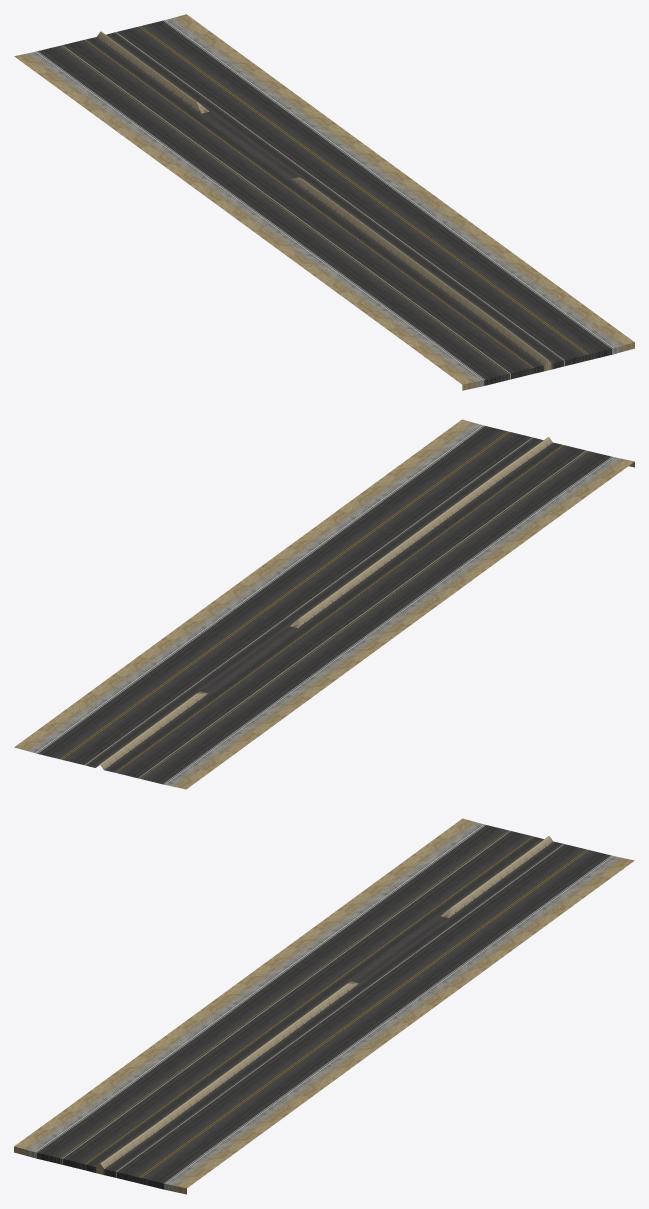
The model's file is vegaseroad072.obj.
3 views of the same model, one above another, from view 1: azimuth 30°, elevation 25°; view 2: azimuth 150°, elevation 25°; view 3: azimuth 330°, elevation 25° (orthographic).
Visible parts, largest first — view 1: VegasEroad072; view 2: VegasEroad072; view 3: VegasEroad072.
Part boxes in pixels (x1=…): VegasEroad072: x1=14, y1=14, x2=634, y2=390; VegasEroad072: x1=14, y1=419, x2=634, y2=789; VegasEroad072: x1=14, y1=818, x2=634, y2=1194.
Size of the model in its own units: 40.09 by 2.32 by 180.
Materials: 4 (4 with a texture image).
